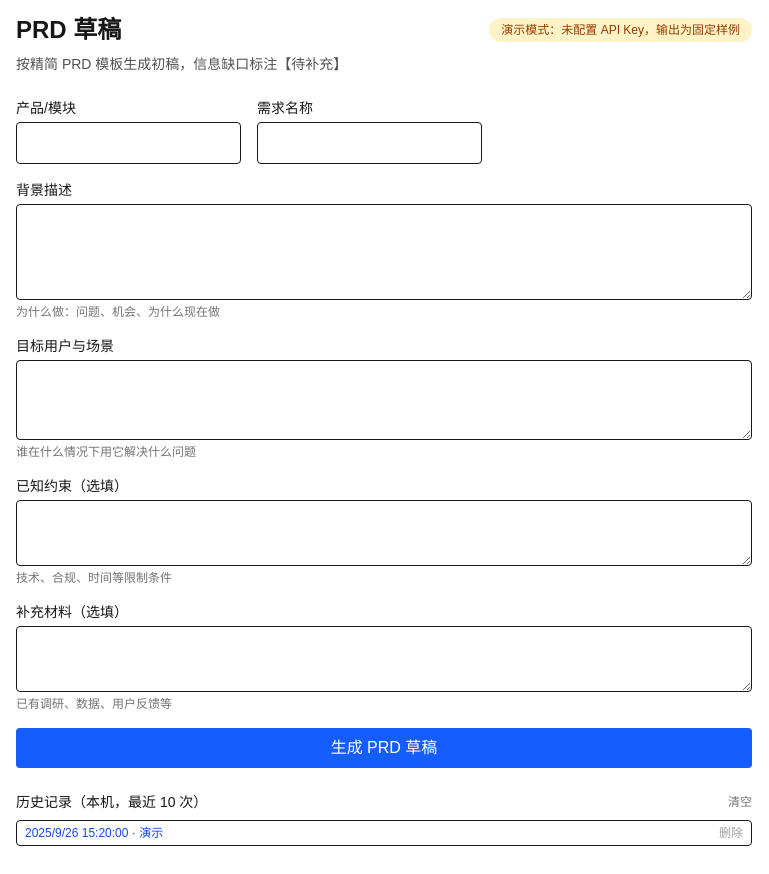
Test: ToolWorkbench › 历史记录可查看与返回
Expected: the element with test id "history-panel" is shown, [16,792,752,846]
Click the button "2025/9/26 15:20:00 · 演示" at (94, 833), box [25,825,163,841]
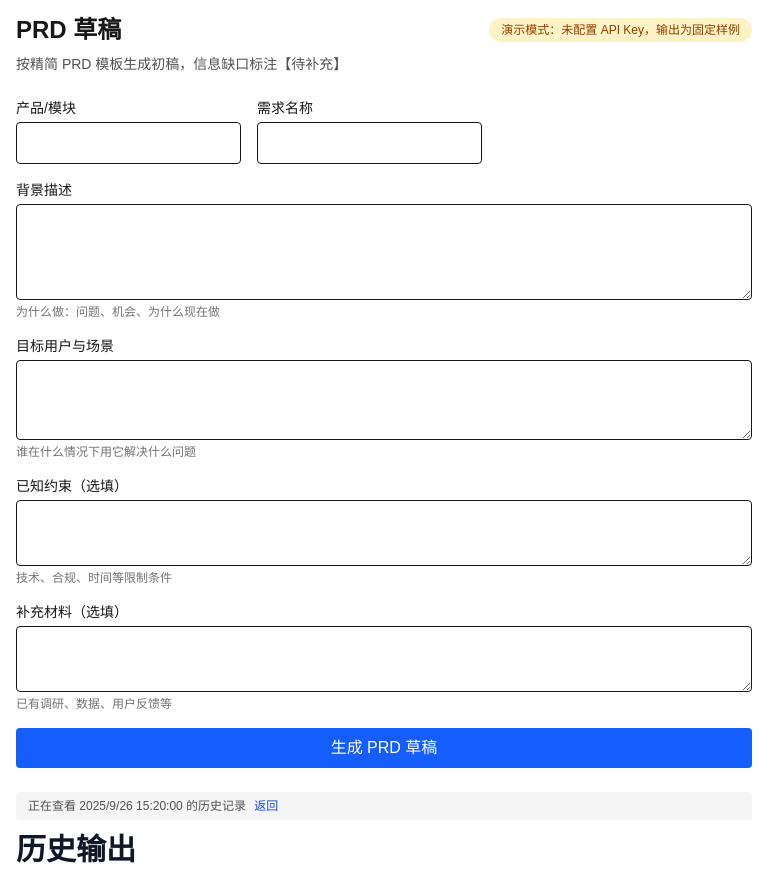
Expected: the heading "历史输出" is shown, [16,833,136,866]
Expected: the text "正在查看 2025/9/26 15:20:00 的历史记录 返回" is shown, [16,792,752,820]
Click the button "返回" at (266, 806), box [254,798,278,814]
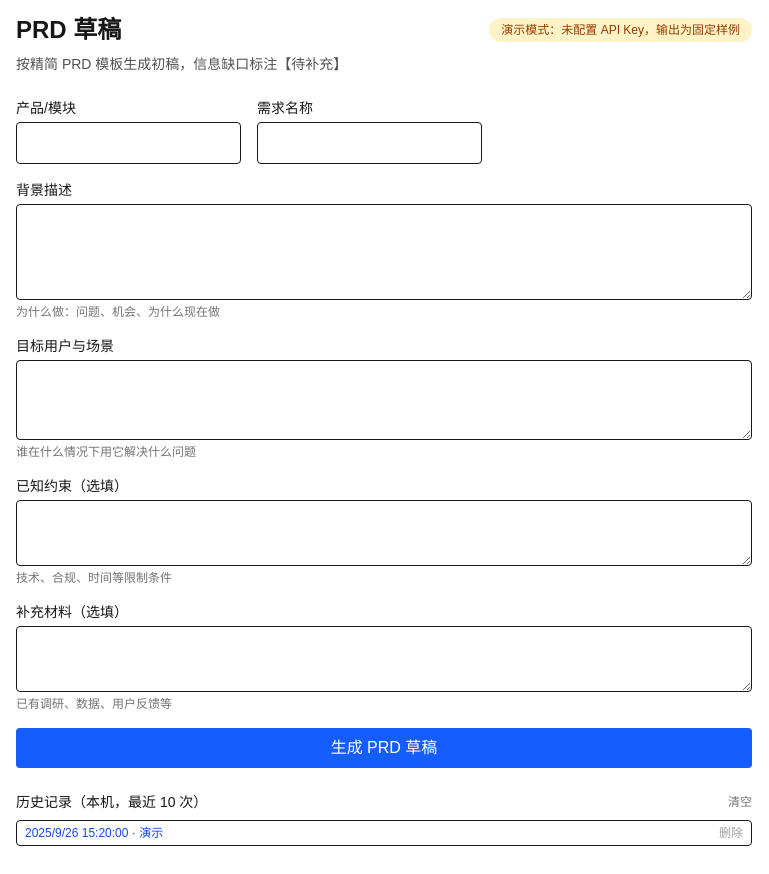
Expected: the text "正在查看" is gone
